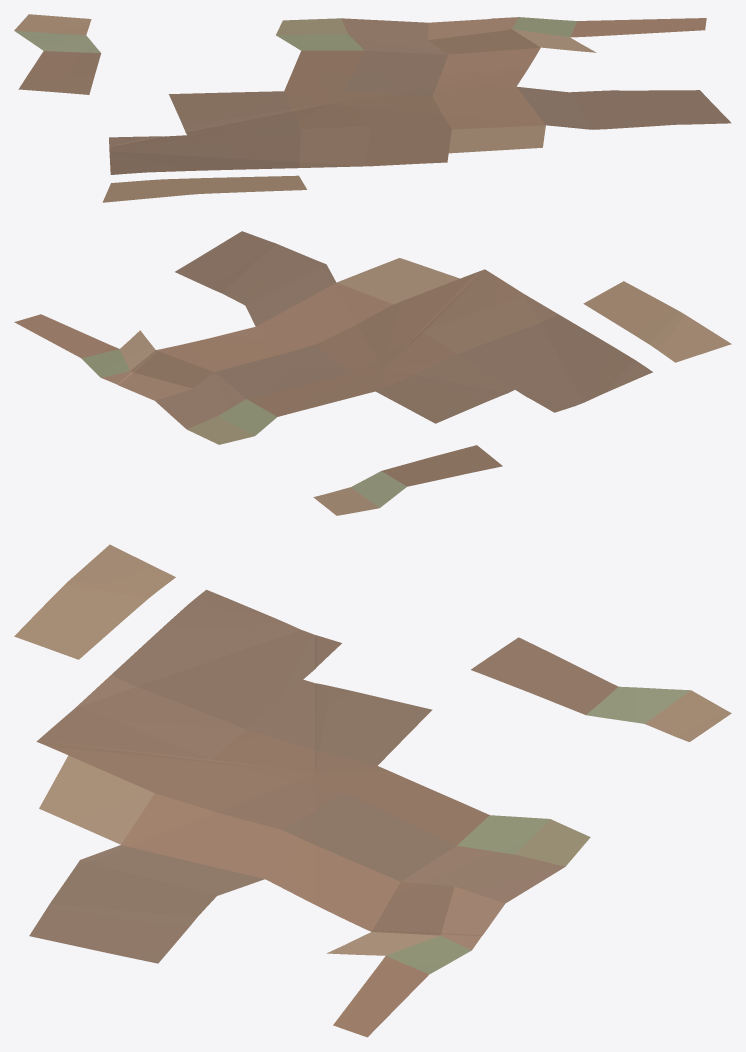
File: farm_2_12_soil.glb
3 renders of one model, top to bottom at view 1: azimuth 30°, elevation 25°; view 2: azimuth 150°, elevation 25°; view 3: azimuth 270°, elevation 25°, orthographic. The views are drawn at different scales.
Visible parts, largest first — view 1: geometry_0; view 2: geometry_0; view 3: geometry_0.
Boxes of the visible parts, left/top/right/bottom form: geometry_0: left=14, top=14, right=731, bottom=202; geometry_0: left=14, top=231, right=731, bottom=515; geometry_0: left=14, top=544, right=731, bottom=1037.
Size of the model in its own units: 243 by 23.74 by 179.
